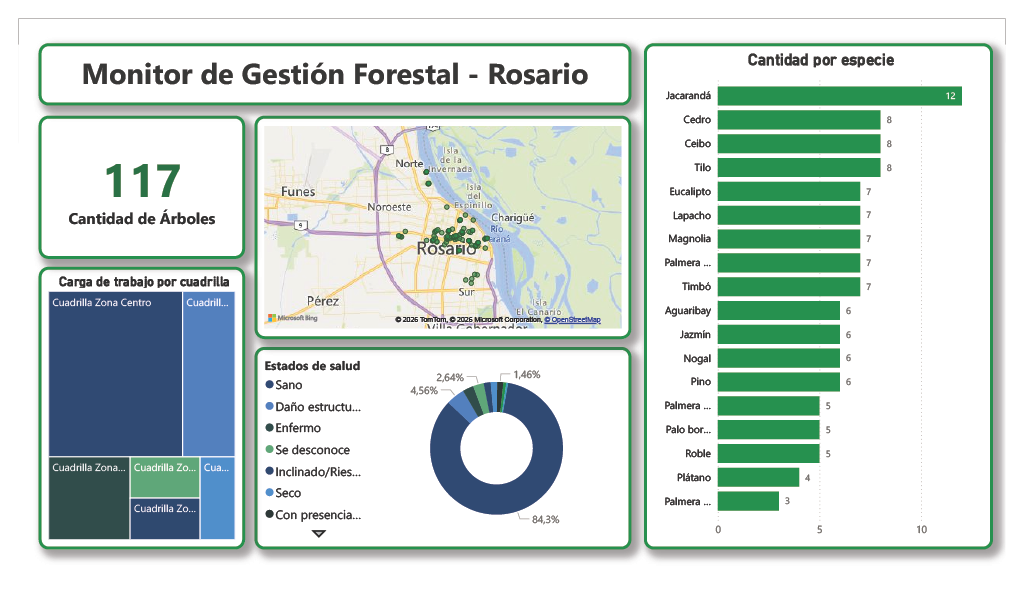

The page's visual inventory and layout, read from the dashboard file:
{"tool":"powerbi","page":{"name":"Página 1","canvas":[1280,720],"ordinal":0},"visuals":[{"type":"clusteredBarChart","title":"Cantidad por especie","fields":{"Category":["especies.nomComun"],"Y":["CountNonNull(arboles.idArbol)"]},"box":[811.1,32.3,452.6,656.8],"z":0},{"type":"donutChart","title":"Estados de salud","fields":{"Category":["estados_salud.nomEstadoSalud"],"Y":["Sum(arboles.idArbol)"]},"box":[305.6,426.1,489.3,263],"z":1000},{"type":"card","title":"Cantidad de arboles","fields":{"Values":["CountNonNull(arboles.idEspecie)"]},"box":[26.4,126.4,267.4,185.1],"z":2000},{"type":"map","fields":{"Y":["ubicaciones.latitud"],"X":["ubicaciones.longitud"]},"box":[305.6,126.4,489.3,289.5],"z":3000},{"type":"treemap","title":"Carga de trabajo por cuadrilla","fields":{"Group":["cuadrillas.nomCuadrilla"],"Values":["CountNonNull(tareas_arbol.idArbol)"]},"box":[26.4,321.8,267.4,367.3],"z":4000},{"type":"textbox","box":[26.4,32.3,768.5,80.8],"z":5000}]}

Visuals, with their boxes in screenshot pixels (x1, y1, x2, y2), scaled from the page's 1280x720 canvas onto the 1024x592 screenshot:
"Cantidad por especie" clusteredBarChart: bbox(649, 27, 1011, 567)
"Estados de salud" donutChart: bbox(244, 350, 636, 567)
"Cantidad de arboles" card: bbox(21, 104, 235, 256)
map - ubicaciones.latitud x ubicaciones.longitud: bbox(244, 104, 636, 342)
"Carga de trabajo por cuadrilla" treemap: bbox(21, 265, 235, 567)
textbox: bbox(21, 27, 636, 93)
